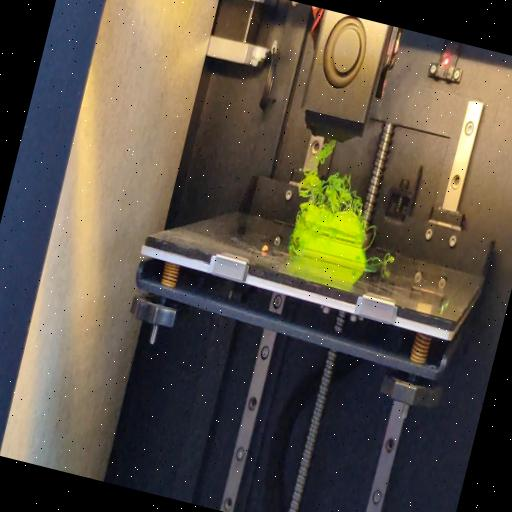spaghetti: (296, 134, 379, 222), (368, 249, 396, 271), (362, 223, 380, 252), (284, 240, 301, 254)
